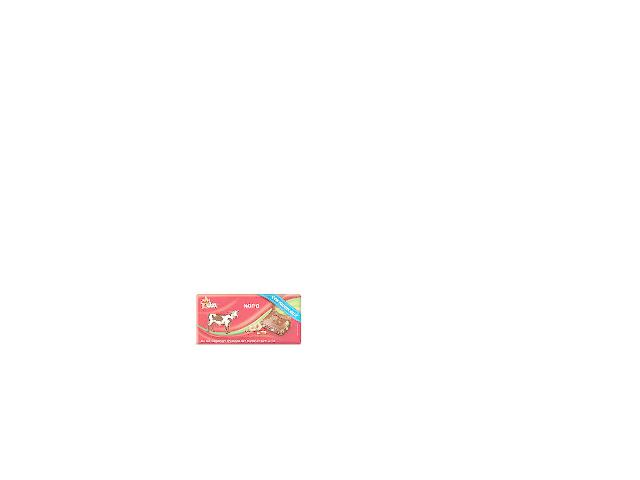chocolate: (191, 293, 300, 343)
